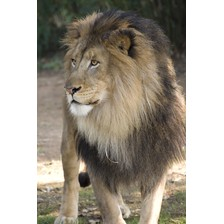lion: (53, 8, 186, 224)
